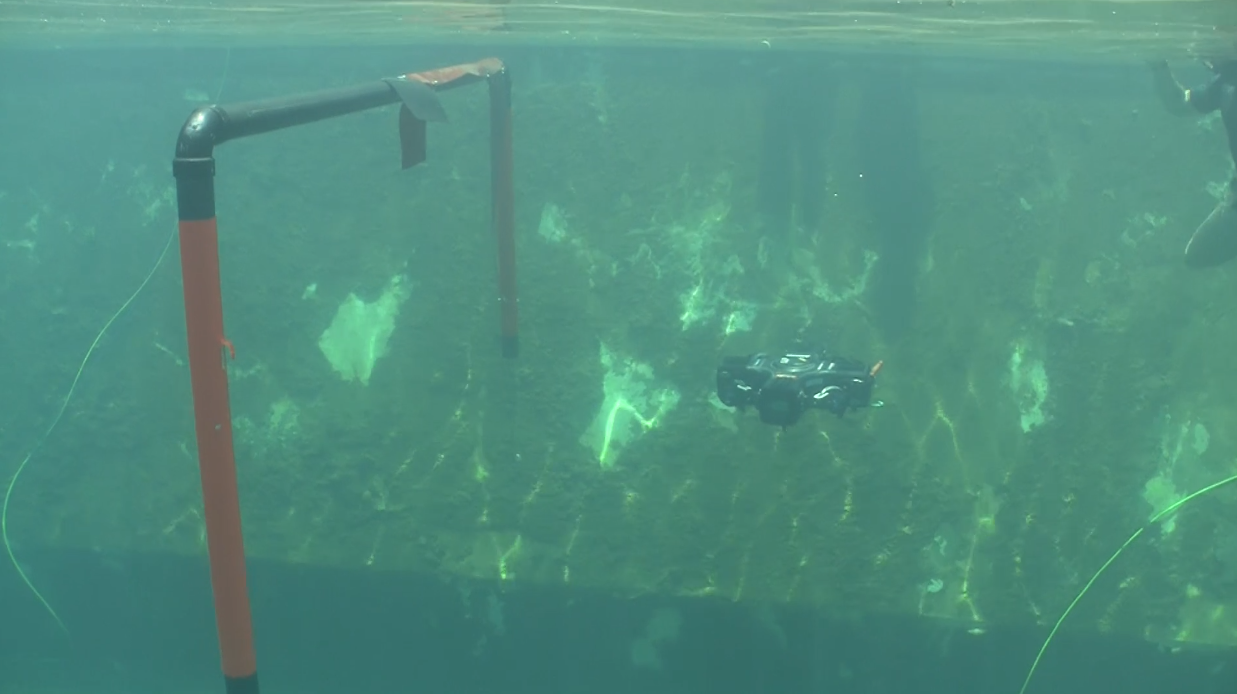gate: (162, 51, 535, 679)
